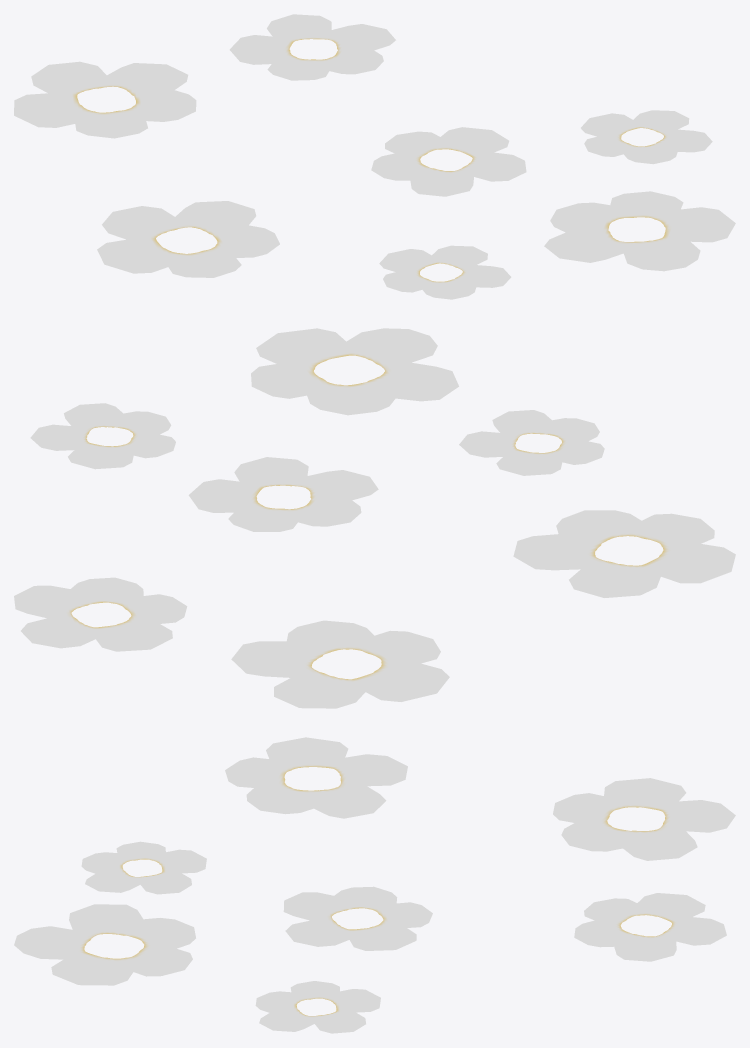
Rendered from FlowerPlanes_fbx.fbx.
3 views of the same model, one above another, from view 1: azimuth 30°, elevation 25°; view 2: azimuth 150°, elevation 25°; view 3: azimuth 270°, elevation 25° (orthographic). The views are drawn at different scales.
Parts seen in each view (by area): view 1: Flower_Plane_LOD0; view 2: Flower_Plane_LOD0; view 3: Flower_Plane_LOD0.
Part boxes in pixels (x1,y1,x2,y2): Flower_Plane_LOD0: (14,14,735,299); Flower_Plane_LOD0: (14,328,735,708); Flower_Plane_LOD0: (14,737,735,1033).
Size of what is drawn, in the model's own units: 51.16 by 0.7555 by 54.35.
